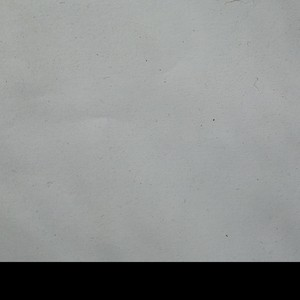base: (1, 1, 299, 260)
